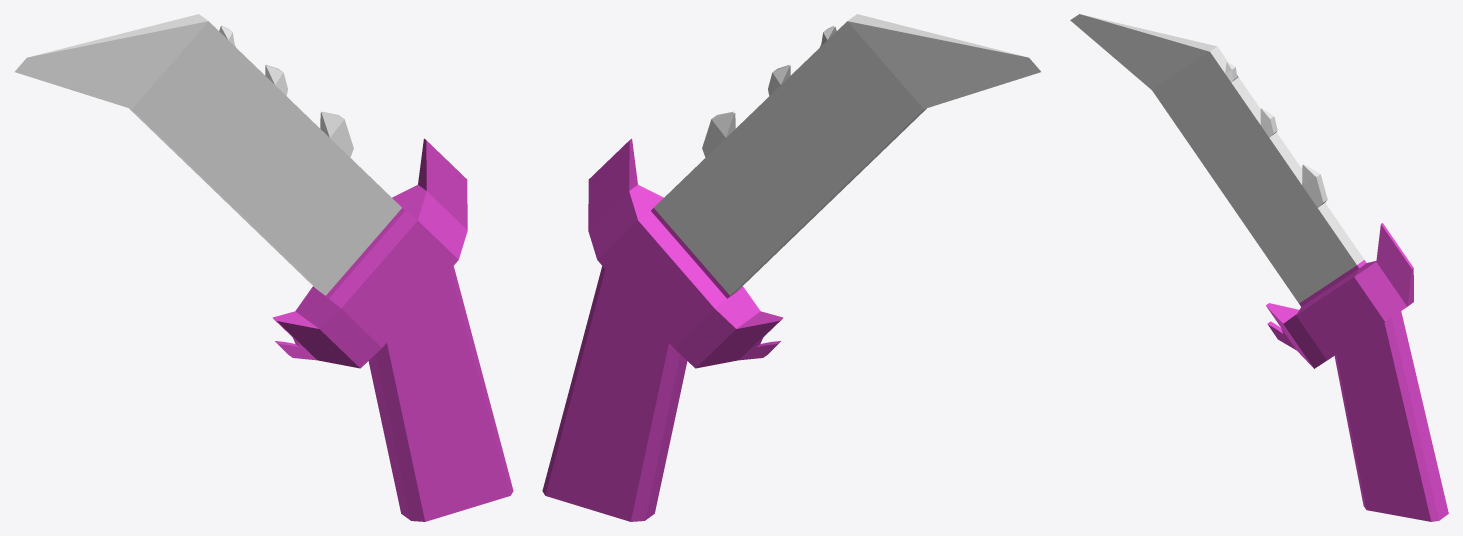
The model's file is PrincessKnife.fbx.
3 views of the same model, side by side, from view 1: azimuth 30°, elevation 25°; view 2: azimuth 150°, elevation 25°; view 3: azimuth 330°, elevation 25° (orthographic). The views are drawn at different scales.
Parts seen in each view (by area): view 1: Cube.001, Cube; view 2: Cube.001, Cube; view 3: Cube.001, Cube.
Boxes of the visible parts, x1=… form: Cube.001: x1=15, y1=14, x2=401, y2=295; Cube: x1=272, y1=138, x2=513, y2=521; Cube.001: x1=654, y1=14, x2=1040, y2=295; Cube: x1=542, y1=138, x2=783, y2=521; Cube.001: x1=1070, y1=14, x2=1364, y2=303; Cube: x1=1266, y1=223, x2=1448, y2=521.
Bounding box in the file's own units: 404 × 433 × 41.32.
